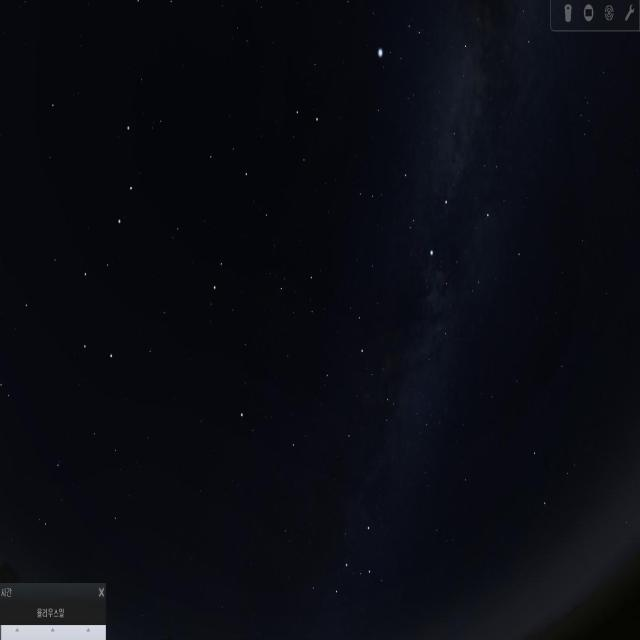cassiopeia: (304, 498, 389, 612)
cygnus: (398, 68, 494, 266)
ursa_major: (70, 105, 150, 369)
